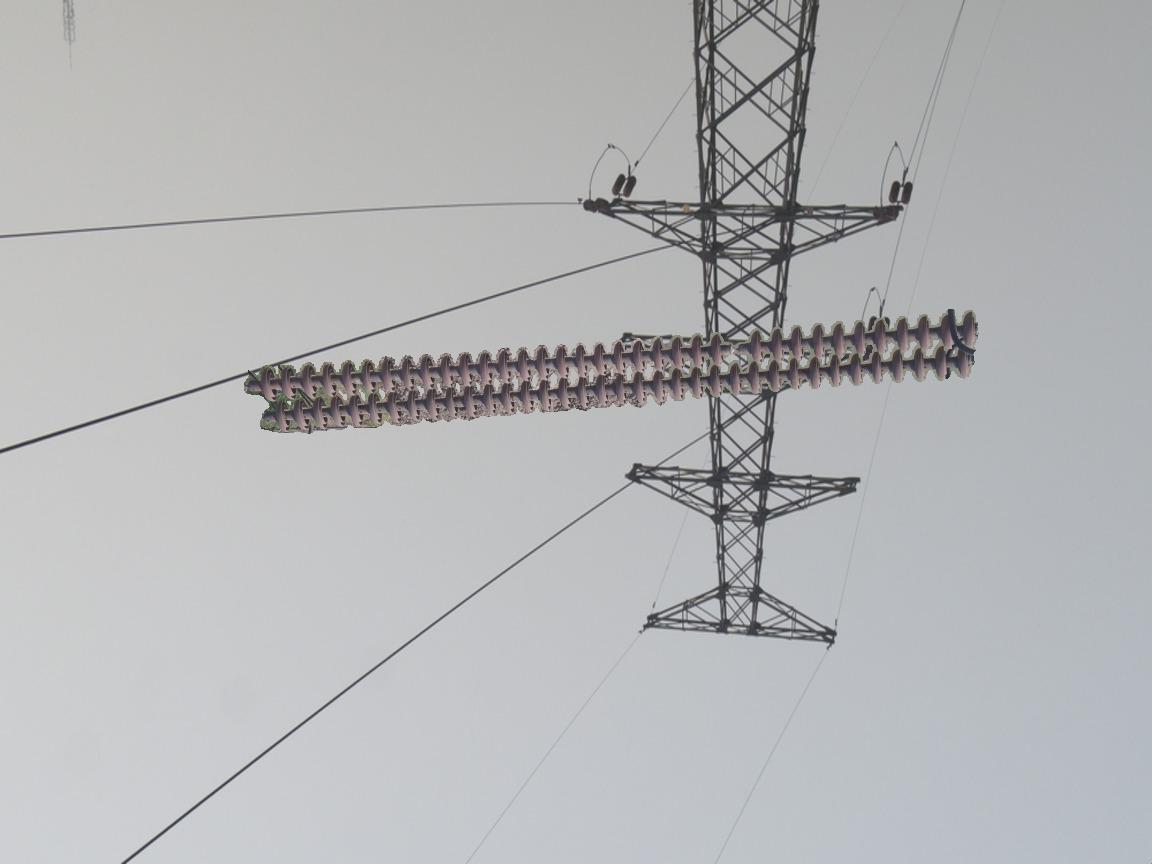insulator: (247, 304, 983, 437)
insulator_stringdrop: (707, 328, 768, 369)
